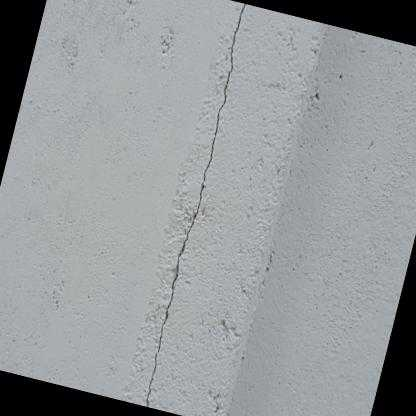crack: (142, 2, 248, 408)
